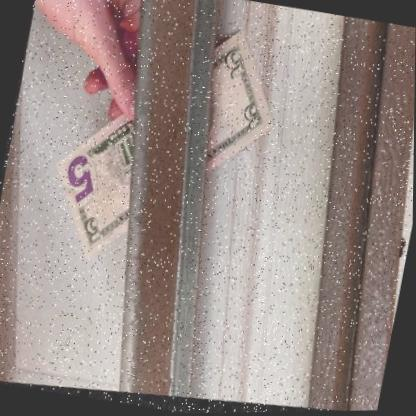dollar_back: (53, 32, 272, 262)
